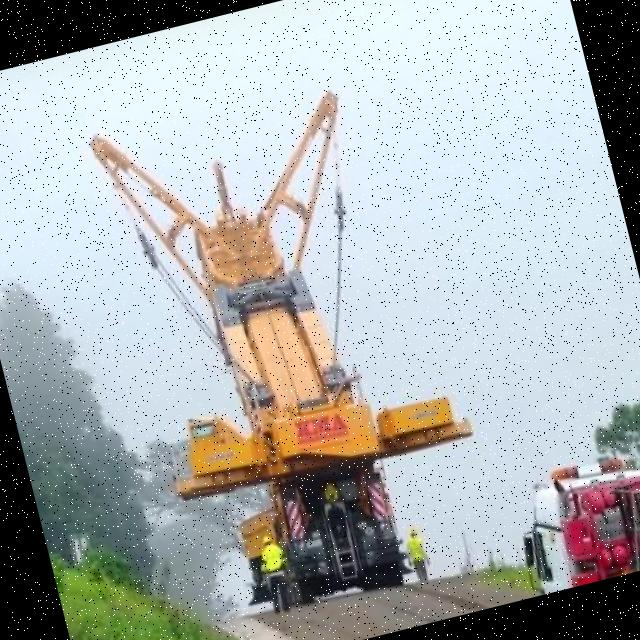Mobile Crane: (80, 67, 506, 636)
